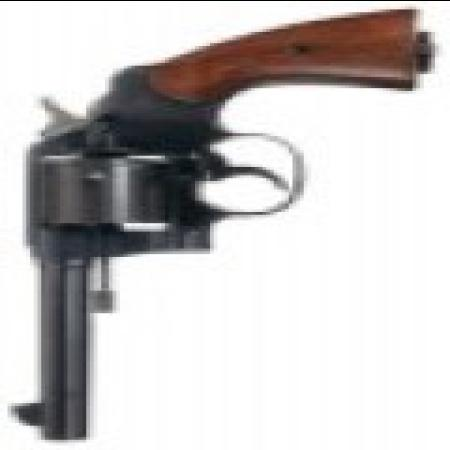Pistol: (4, 14, 420, 442)
